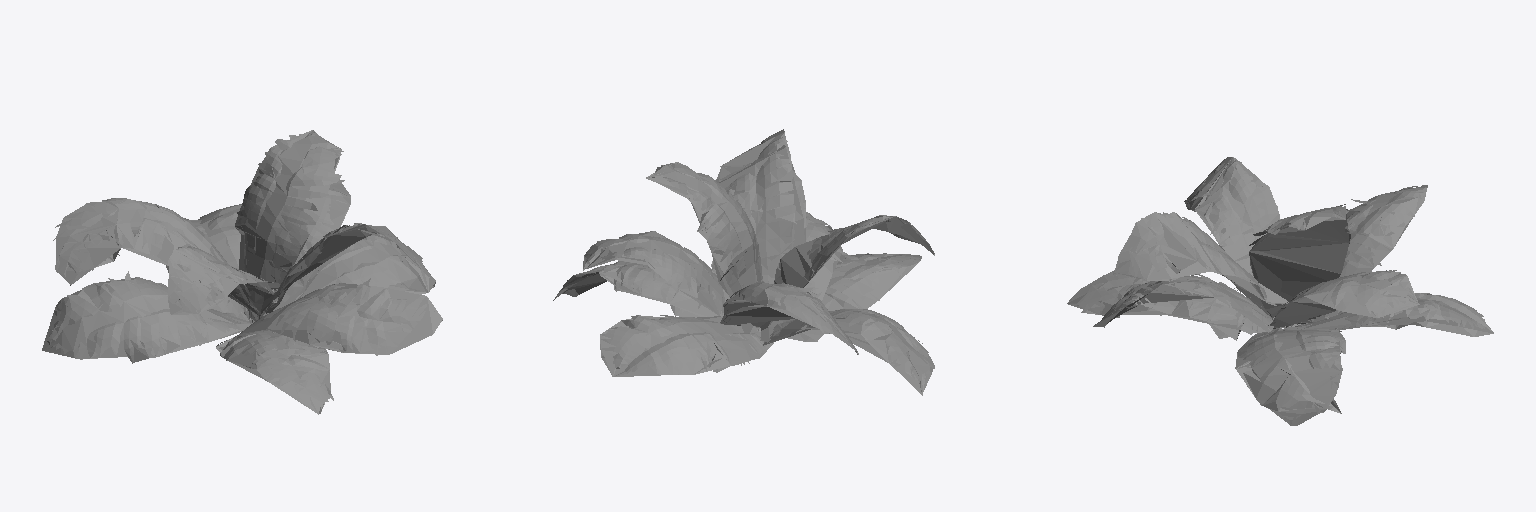
The model's file is Swamp_Fern.obj.
3 renders of one model, left to right at view 1: azimuth 30°, elevation 25°; view 2: azimuth 150°, elevation 25°; view 3: azimuth 270°, elevation 25°, orthographic.
Visible parts, largest first — view 1: Foliage_Swamp_Fern_LOD0, Foliage_Swamp_Fern_LOD2, Foliage_Swamp_Fern_LOD1, Foliage_Swamp_Fern_LOD3, Foliage_Swamp_Fern_LOD4, Foliage_Swamp_Fern_LOD5; view 2: Foliage_Swamp_Fern_LOD0, Foliage_Swamp_Fern_LOD2, Foliage_Swamp_Fern_LOD5, Foliage_Swamp_Fern_LOD1, Foliage_Swamp_Fern_LOD3, Foliage_Swamp_Fern_LOD4; view 3: Foliage_Swamp_Fern_LOD0, Foliage_Swamp_Fern_LOD2, Foliage_Swamp_Fern_LOD4, Foliage_Swamp_Fern_LOD5, Foliage_Swamp_Fern_LOD1, Foliage_Swamp_Fern_LOD3.
Part boxes in pixels (left/top/right/bottom): Foliage_Swamp_Fern_LOD0: left=42, top=130, right=441, bottom=414; Foliage_Swamp_Fern_LOD2: left=42, top=130, right=442, bottom=413; Foliage_Swamp_Fern_LOD1: left=42, top=135, right=431, bottom=411; Foliage_Swamp_Fern_LOD3: left=44, top=135, right=433, bottom=386; Foliage_Swamp_Fern_LOD4: left=46, top=131, right=435, bottom=381; Foliage_Swamp_Fern_LOD5: left=45, top=131, right=442, bottom=412; Foliage_Swamp_Fern_LOD0: left=553, top=130, right=934, bottom=391; Foliage_Swamp_Fern_LOD2: left=564, top=129, right=934, bottom=395; Foliage_Swamp_Fern_LOD5: left=563, top=145, right=933, bottom=376; Foliage_Swamp_Fern_LOD1: left=555, top=138, right=934, bottom=390; Foliage_Swamp_Fern_LOD3: left=574, top=149, right=934, bottom=392; Foliage_Swamp_Fern_LOD4: left=563, top=132, right=925, bottom=374; Foliage_Swamp_Fern_LOD0: left=1067, top=158, right=1493, bottom=425; Foliage_Swamp_Fern_LOD2: left=1068, top=157, right=1491, bottom=424; Foliage_Swamp_Fern_LOD4: left=1107, top=160, right=1461, bottom=425; Foliage_Swamp_Fern_LOD5: left=1093, top=158, right=1493, bottom=401; Foliage_Swamp_Fern_LOD1: left=1070, top=157, right=1484, bottom=422; Foliage_Swamp_Fern_LOD3: left=1111, top=157, right=1492, bottom=424.
Size of the model in its own units: 300 by 127 by 302.